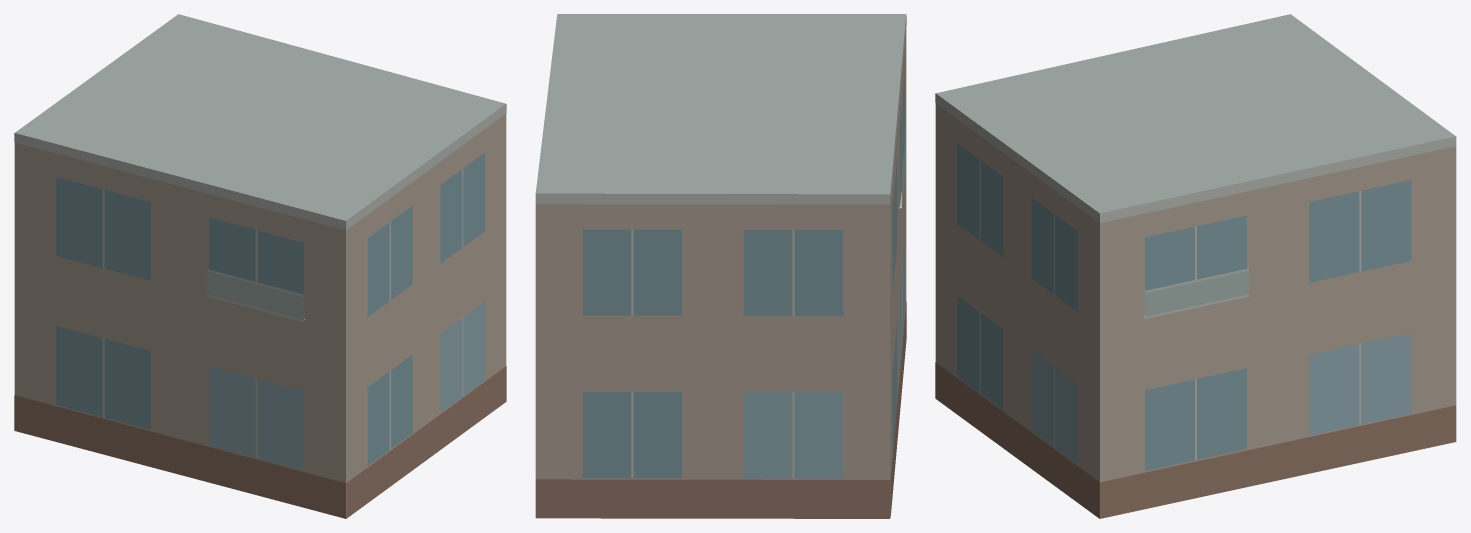
Rendered from survey-upis-32595940.glb.
3 renders of one model, left to right at view 1: azimuth 30°, elevation 25°; view 2: azimuth 150°, elevation 25°; view 3: azimuth 270°, elevation 25°, orthographic. The views are drawn at different scales.
Visible parts, largest first — view 1: survey-upis-32595940.tmp; view 2: survey-upis-32595940.tmp; view 3: survey-upis-32595940.tmp.
Boxes of the visible parts, x1,y1,x2,y2 form: survey-upis-32595940.tmp: (14, 14, 506, 518); survey-upis-32595940.tmp: (535, 14, 906, 518); survey-upis-32595940.tmp: (935, 14, 1456, 518).
Bounding box in the file's own units: 10.66 × 7.6 × 11.75.
